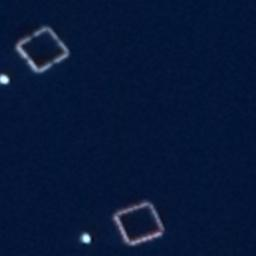square_solid: (10, 21, 77, 79), (107, 195, 171, 252)
